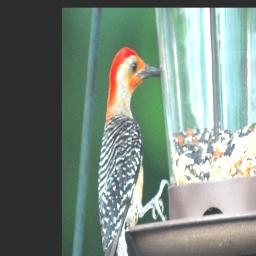Woodpecker: (95, 46, 169, 256)
